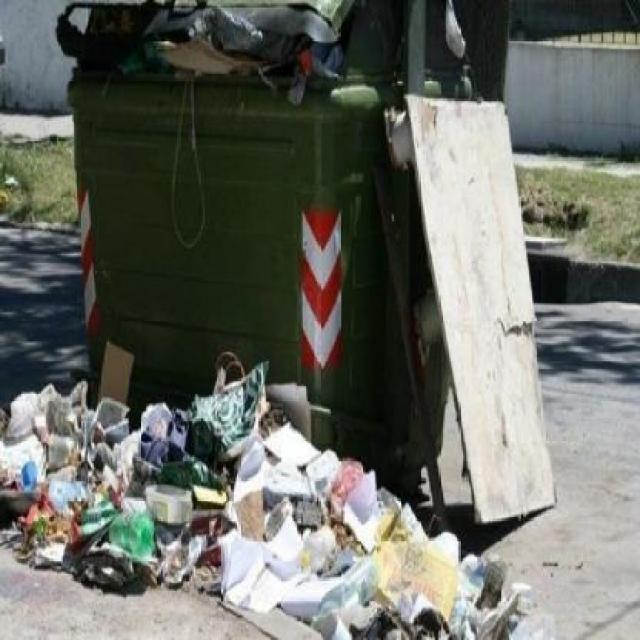garbage: (5, 385, 512, 639), (378, 99, 560, 519), (132, 1, 366, 86)
